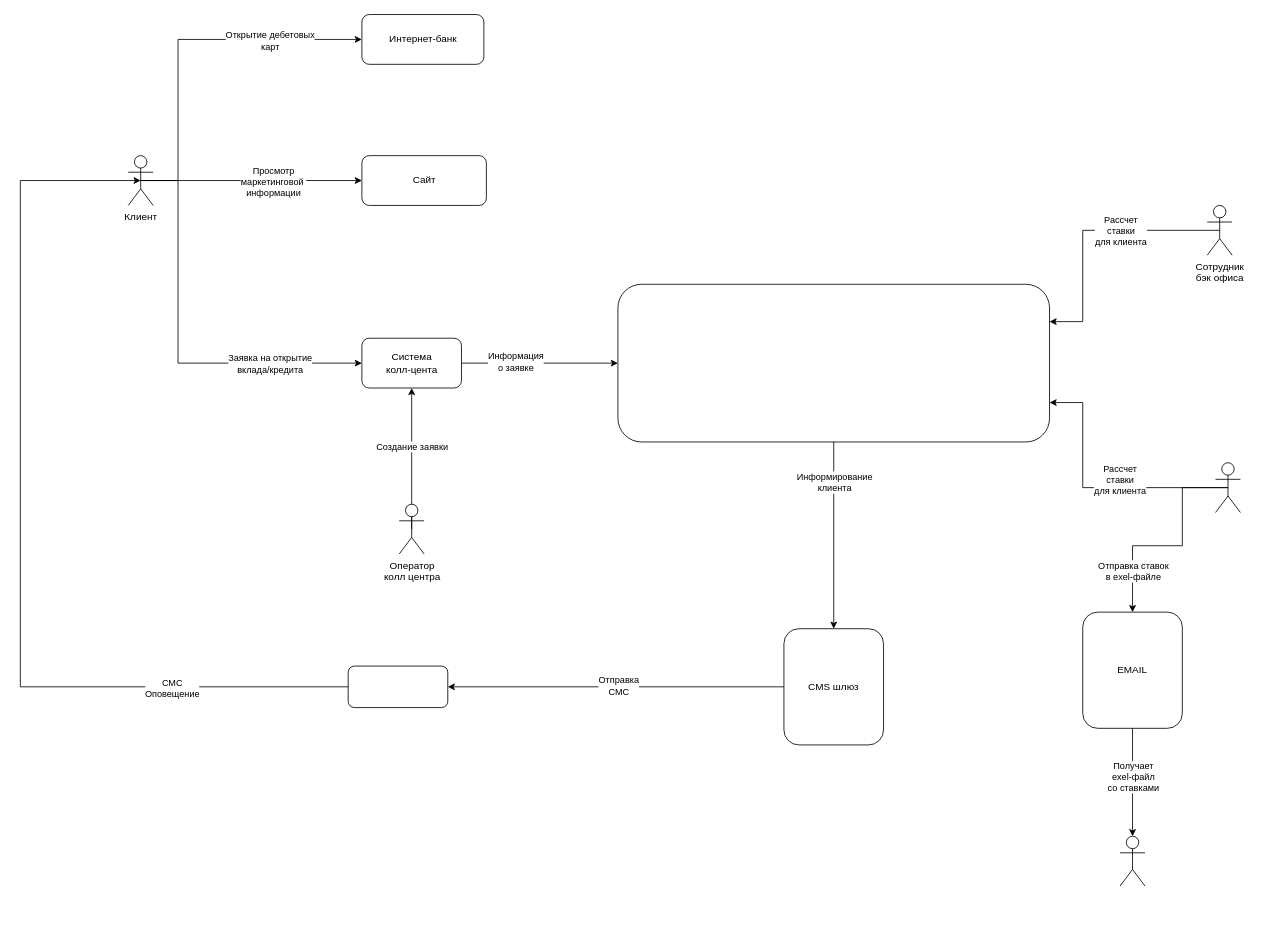
This 1274x930 diagram has some shape labels left out. Each missing label, with the centre of its shape:
"Автоматизированная Банковская Система" belongs at (833,362).
"Сотрудник отдела кредитования" belongs at (1227,487).
"Сотрудник фронт офиса" belongs at (1132,860).
"Телеком оператор" belongs at (397,686).
